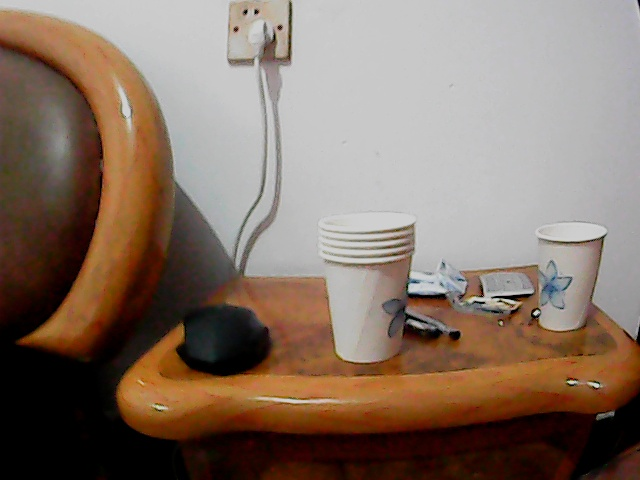cup: (316, 212, 418, 363)
mouse: (173, 301, 274, 378)
